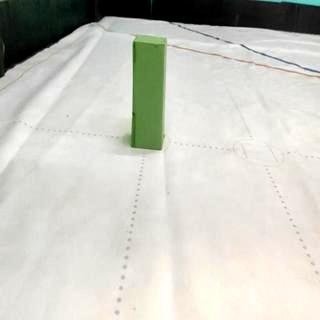greenbox: (130, 34, 168, 150)
